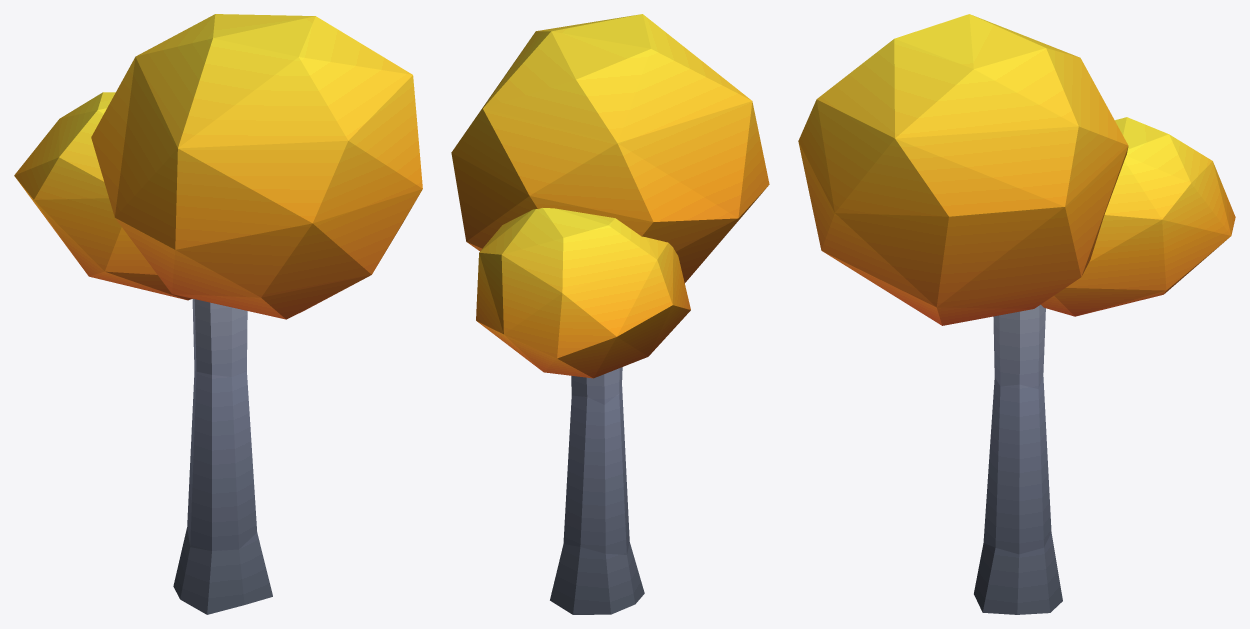
The model's file is Birch_D.glb.
The picture shows the model from 3 angles, left to right: view 1: azimuth 30°, elevation 25°; view 2: azimuth 150°, elevation 25°; view 3: azimuth 270°, elevation 25°; orthographic projection. The views are drawn at different scales.
Parts seen in each view (by area): view 1: Birch_Leaves1_D, Birch_Trunk_D, Birch_Leaves2_D; view 2: Birch_Leaves1_D, Birch_Leaves2_D, Birch_Trunk_D; view 3: Birch_Leaves1_D, Birch_Leaves2_D, Birch_Trunk_D.
Part boxes in pixels (box(x1,y1,x2,y2)): Birch_Leaves1_D: box(91, 14, 422, 319); Birch_Trunk_D: box(173, 299, 272, 614); Birch_Leaves2_D: box(14, 92, 192, 300); Birch_Leaves1_D: box(451, 14, 769, 283); Birch_Leaves2_D: box(476, 208, 690, 378); Birch_Trunk_D: box(550, 367, 644, 614); Birch_Leaves1_D: box(798, 14, 1128, 325); Birch_Leaves2_D: box(1041, 117, 1235, 316); Birch_Trunk_D: box(974, 304, 1062, 614).
Size of the model in its own units: 1.79 by 3.49 by 2.43.
1 material, 1 textured.
